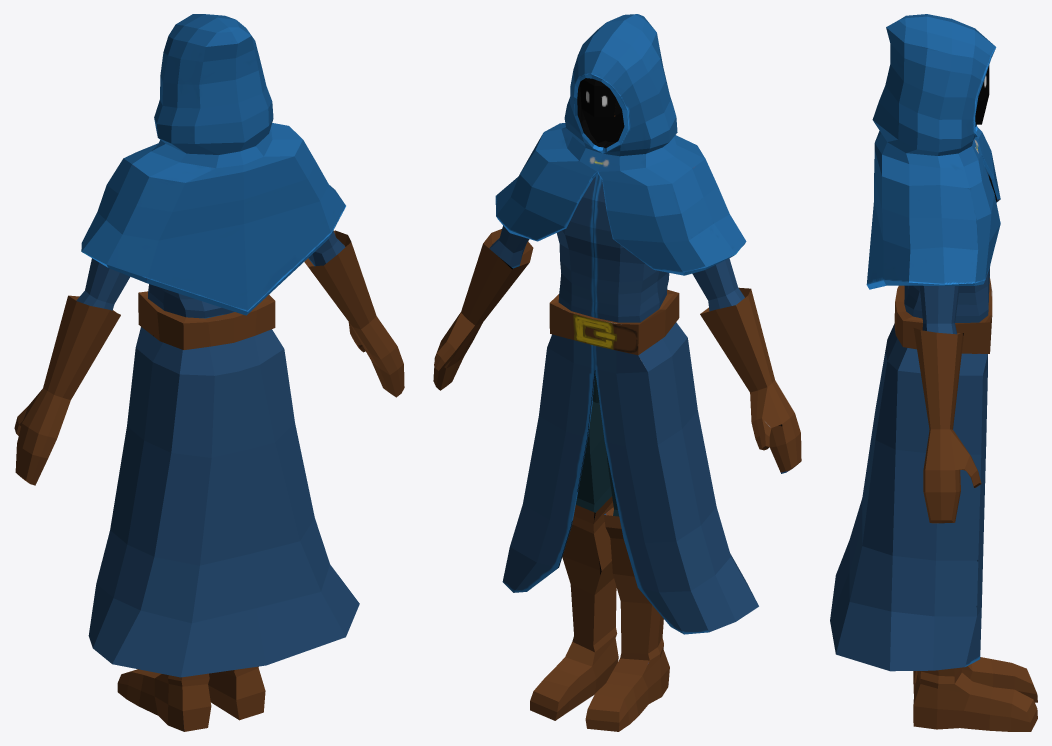
Rendered from Igrus Khasorin.fbx.
3 views of the same model, side by side, from view 1: azimuth 30°, elevation 25°; view 2: azimuth 150°, elevation 25°; view 3: azimuth 270°, elevation 25° (orthographic). The views are drawn at different scales.
Visible parts, largest first — view 1: Cube.001; view 2: Cube.001; view 3: Cube.001.
Part boxes in pixels (x1=…): Cube.001: x1=14, y1=14, x2=404, y2=731; Cube.001: x1=433, y1=14, x2=801, y2=731; Cube.001: x1=830, y1=14, x2=1037, y2=731.
Bounding box in the file's own units: 276 × 488 × 132.
Materials: 1 (1 with a texture image).
